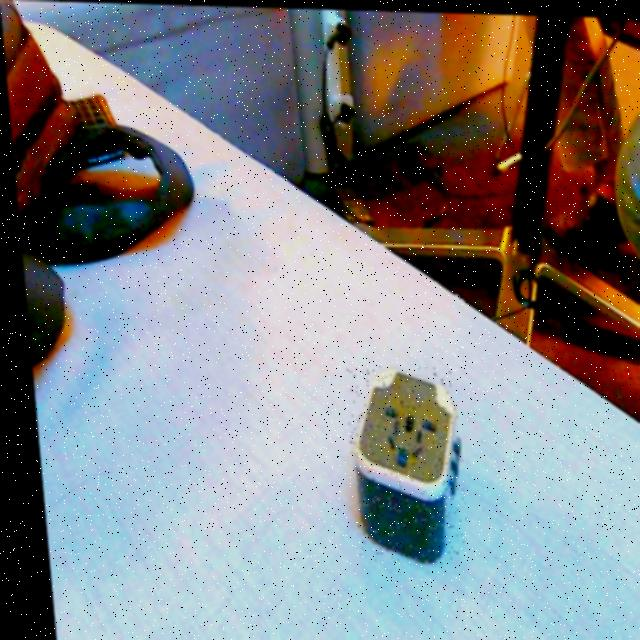adapter: (337, 362, 462, 562)
